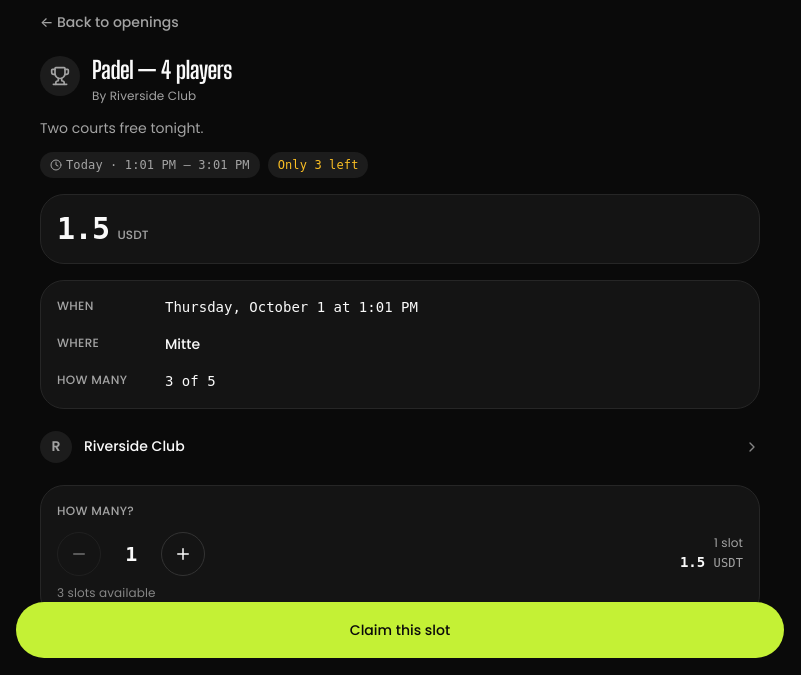
Test case: quantity selector (Phase 5n-D) › the CTA states the chosen quantity
The image size is (801, 675).
expect the text "How many?" is shown: met, box [57,502,134,518]
Click the button named "one more slot" at (183, 554), box [161,532,205,576]
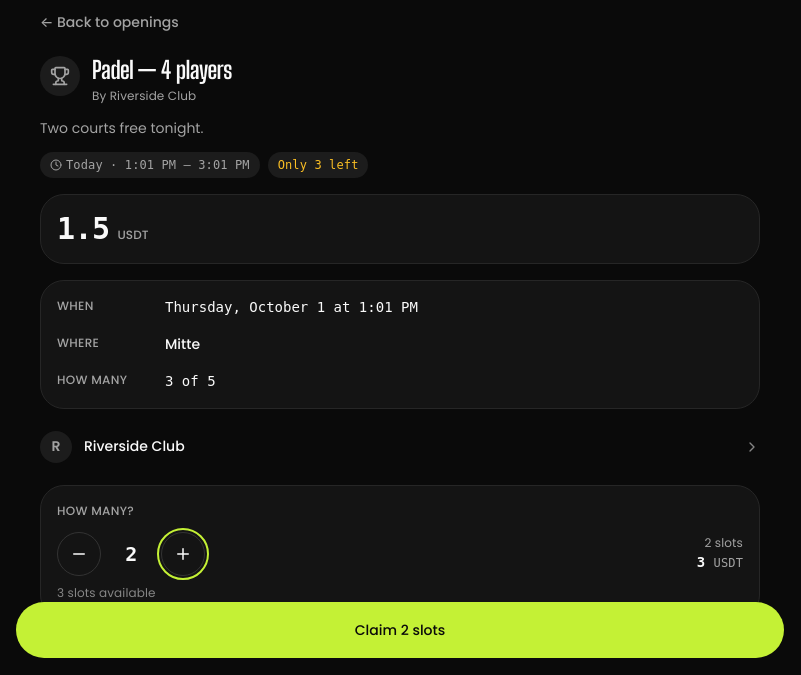
expect the button "Claim 2 slots" is shown: met, box [16,602,784,658]
